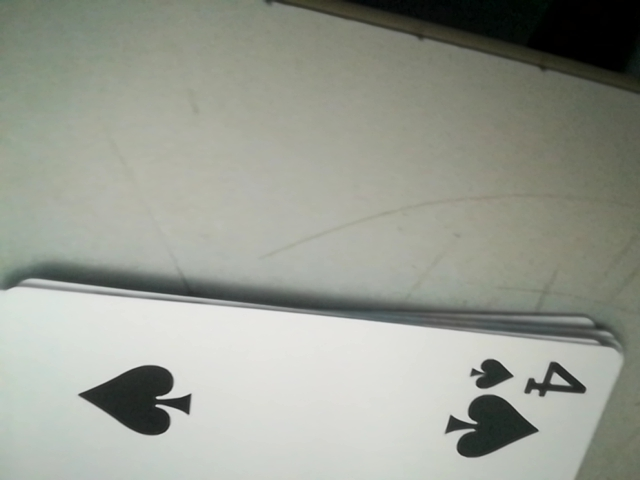ht 4: (464, 348, 598, 399)
